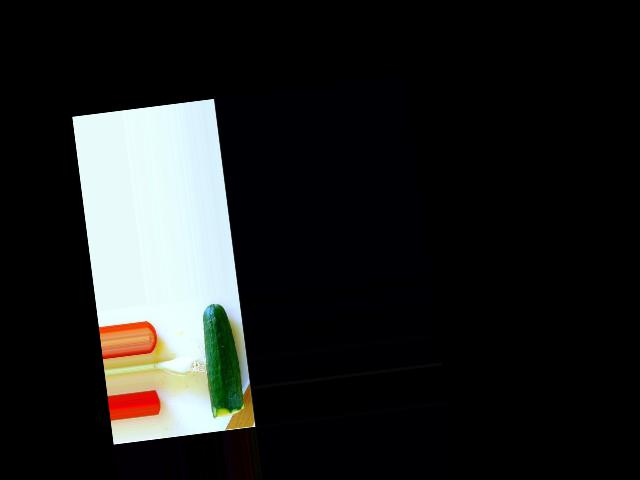cucumber: (198, 300, 246, 418)
